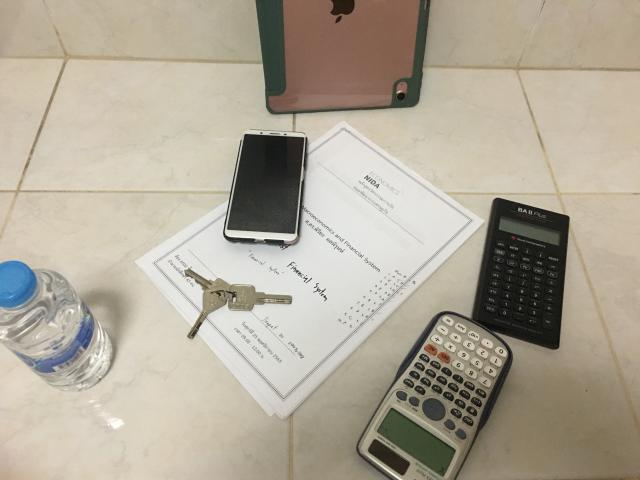Keys: (185, 269, 292, 341)
Mobile phone: (224, 130, 308, 244)
bottle: (0, 261, 112, 391)
paper: (136, 122, 484, 418)
